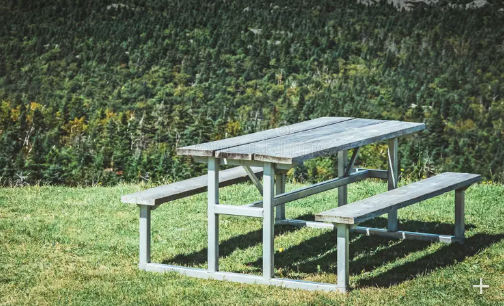obstacle: (116, 115, 482, 292)
